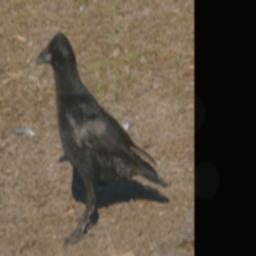Crow: (35, 28, 172, 255)
